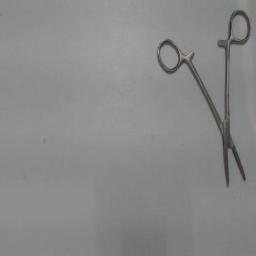Mayo Needle Holder: (154, 7, 254, 195)
